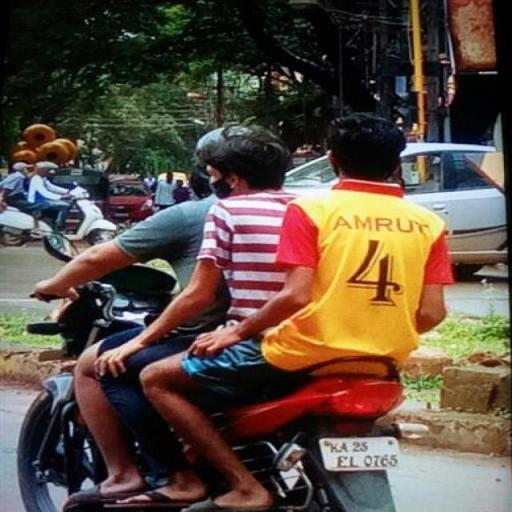tripple riding: (38, 114, 462, 362)
